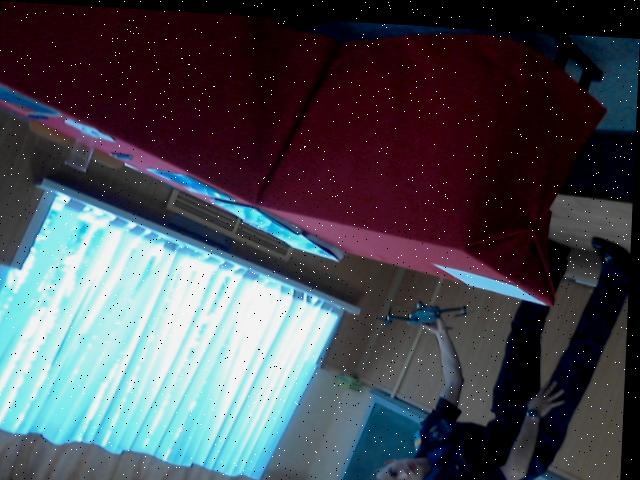drone: (373, 284, 479, 342)
